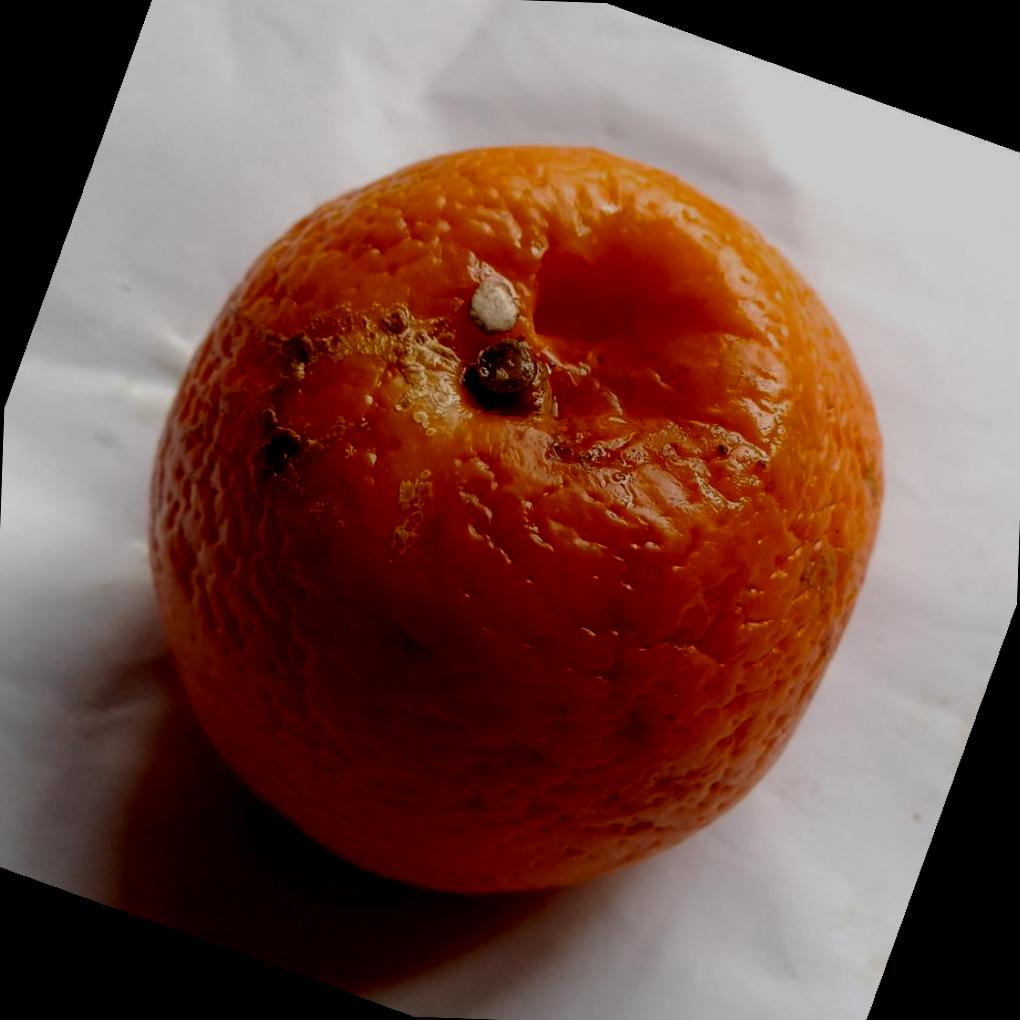FreshOrange: (143, 140, 884, 897)
